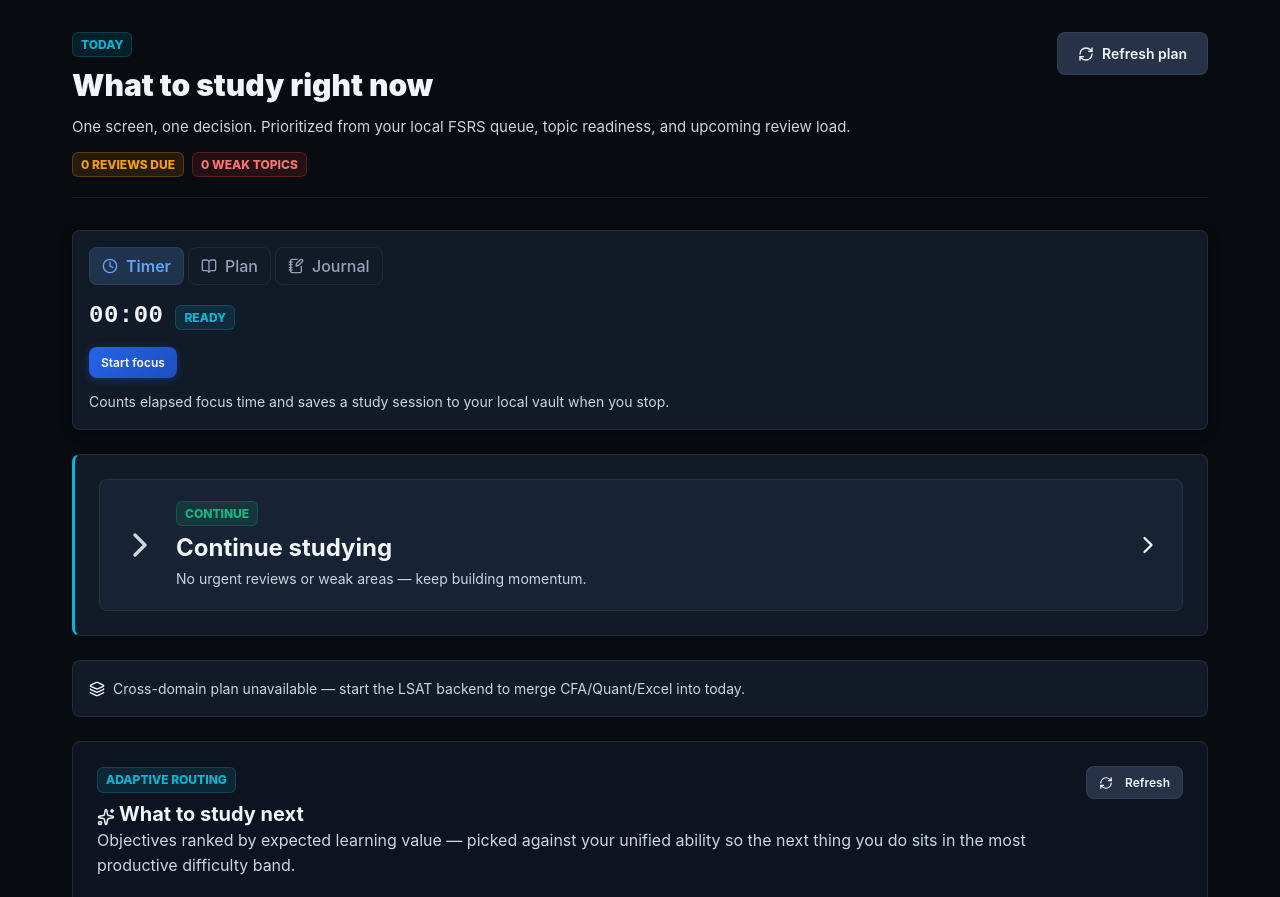
Today focus-mode landing › handles an empty plan without crashing
The width and height of the screenshot is (1280, 897).
expect the heading "Continue studying" is shown: met, box 176,533 -> 392,562
// The headline lives in the study-session card's Plan tab.
Step 1. Click the tab "Plan" → click(230, 266), box 188,247 -> 271,285
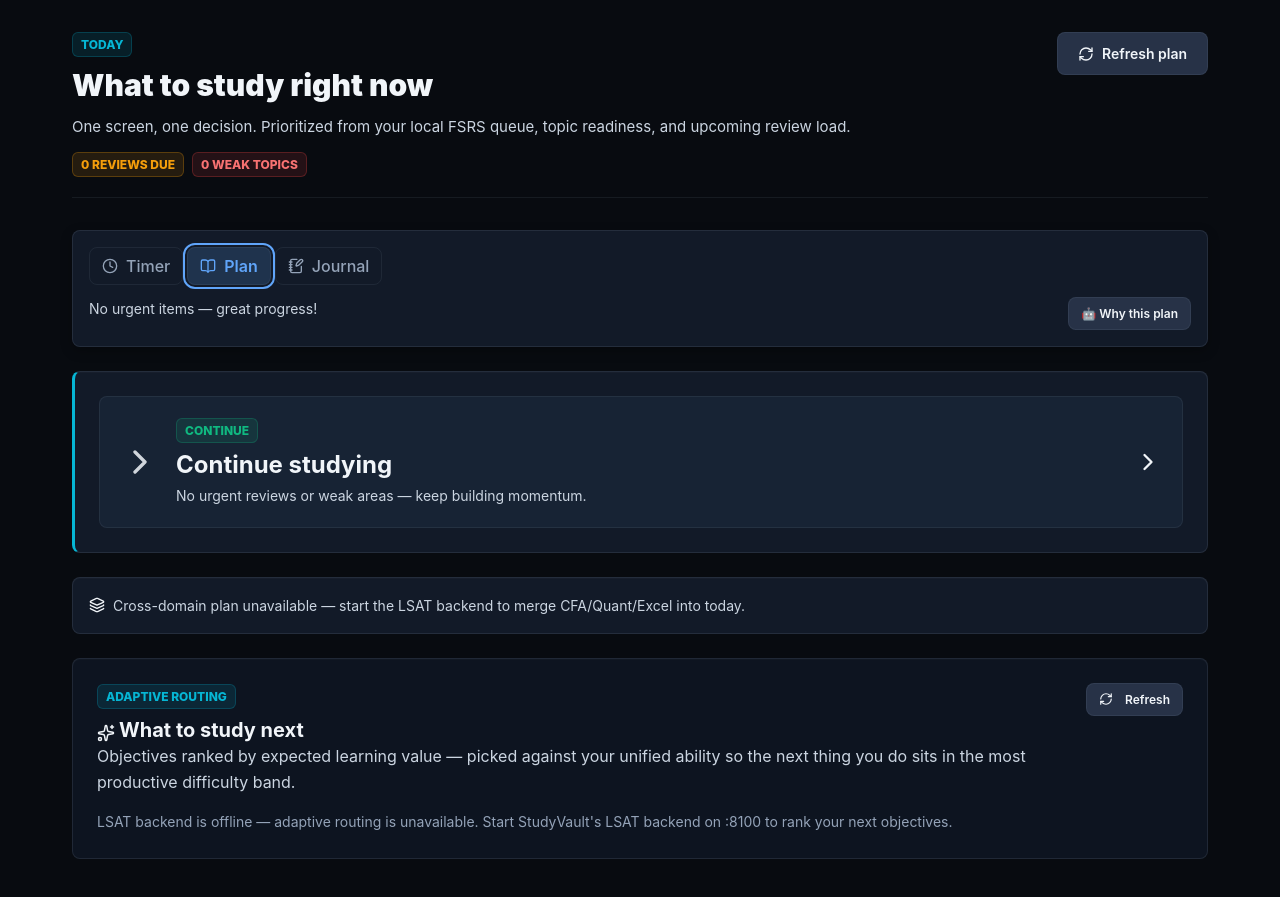
expect the text "No urgent items — great progress!" is shown: met, box 89,297 -> 317,320
